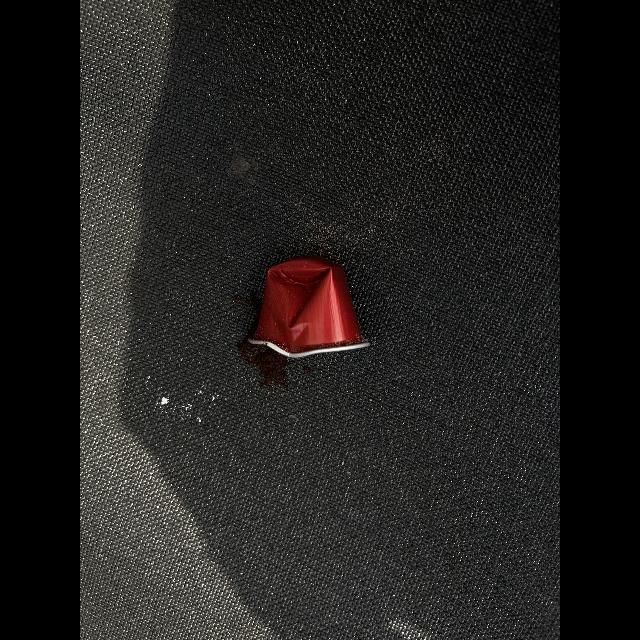damaged_capsule: (237, 238, 396, 378)
